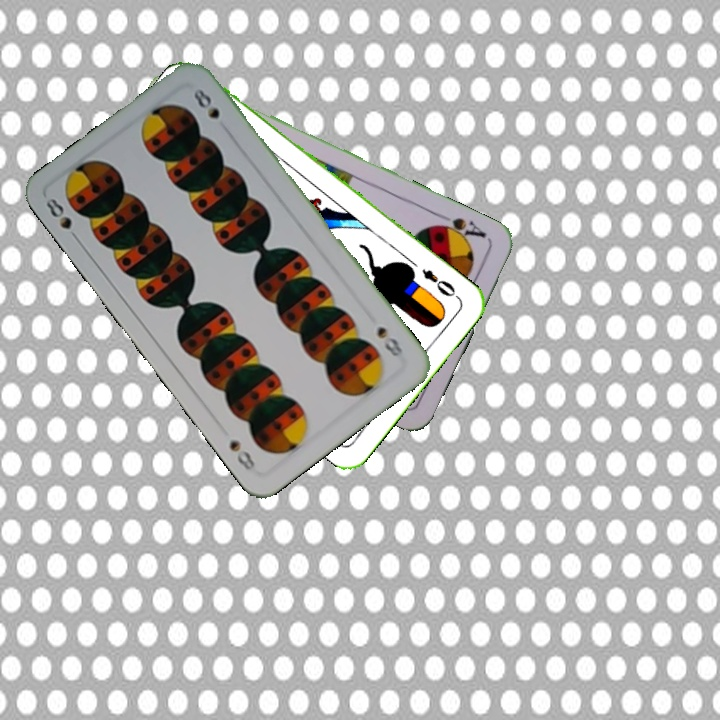EO: (417, 265, 462, 302)
S8: (41, 193, 83, 246), (373, 322, 408, 362)
SA: (431, 209, 489, 246)
